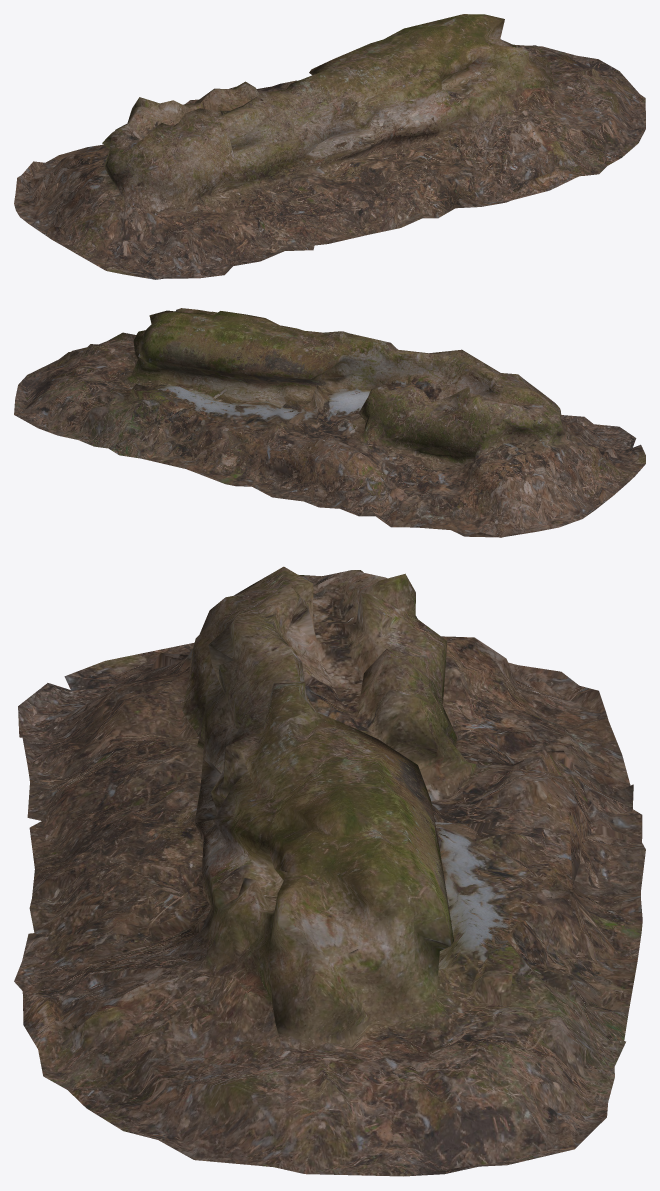
Rendered from PX_Fallen_Trunk_03_LOD4.fbx.
3 views of the same model, one above another, from view 1: azimuth 30°, elevation 25°; view 2: azimuth 150°, elevation 25°; view 3: azimuth 270°, elevation 25° (orthographic). The views are drawn at different scales.
Parts seen in each view (by area): view 1: PX_Fallen_Trunk_03_LOD4; view 2: PX_Fallen_Trunk_03_LOD4; view 3: PX_Fallen_Trunk_03_LOD4.
Boxes of the visible parts, box(x1,y1,x2,y2) form: PX_Fallen_Trunk_03_LOD4: box(14, 14, 645, 279); PX_Fallen_Trunk_03_LOD4: box(14, 308, 645, 537); PX_Fallen_Trunk_03_LOD4: box(14, 566, 645, 1176).
Bounding box in the file's own units: 178 × 32.14 × 87.81.
